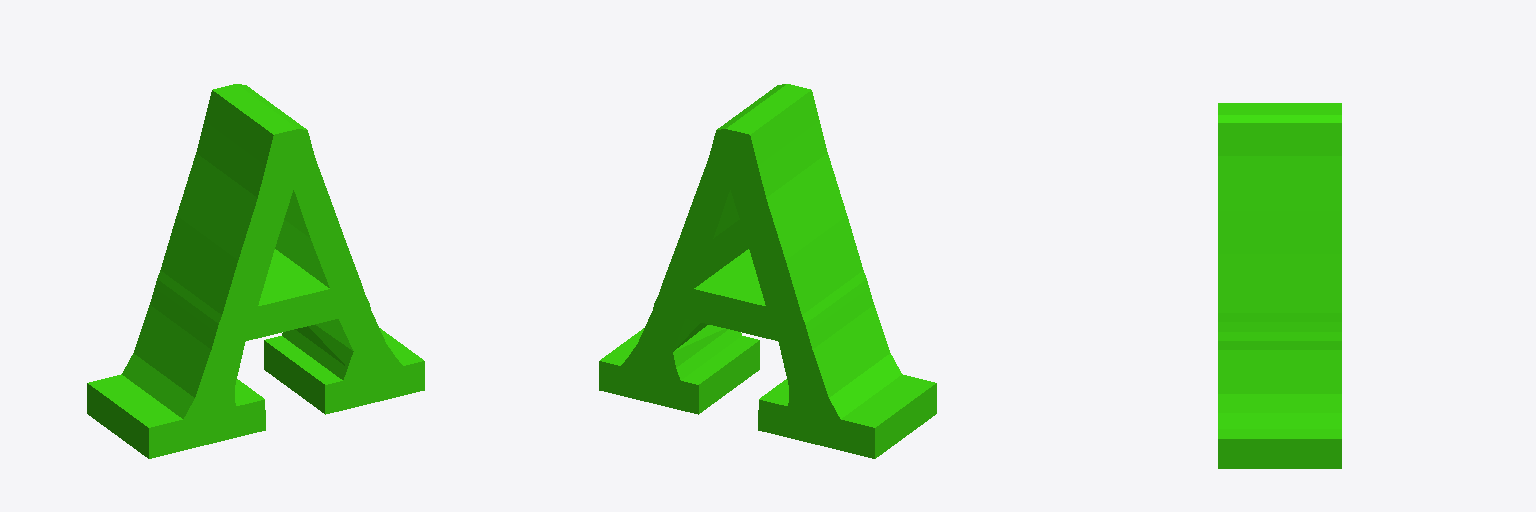
The picture shows the model from 3 angles: view 1: azimuth 30°, elevation 25°; view 2: azimuth 150°, elevation 25°; view 3: azimuth 270°, elevation 25°; orthographic projection.
Visible parts, largest first — view 1: Cube; view 2: Cube; view 3: Cube.
Boxes of the visible parts, x1,y1,x2,y2 form: Cube: [87, 84, 424, 458]; Cube: [599, 84, 936, 458]; Cube: [1218, 103, 1341, 468].
Bounding box in the file's own units: 1.03 × 1.05 × 0.4.
Materials: 1 (1 with a texture image).